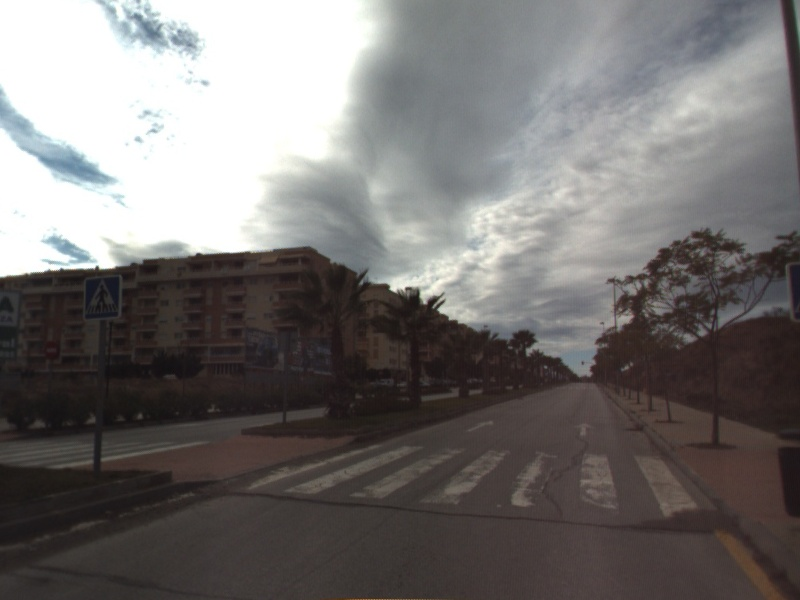STRAIGHT: (464, 418, 496, 434), (572, 420, 597, 438)
